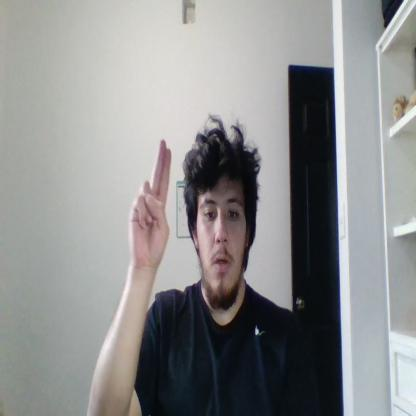U: (130, 138, 172, 271)
